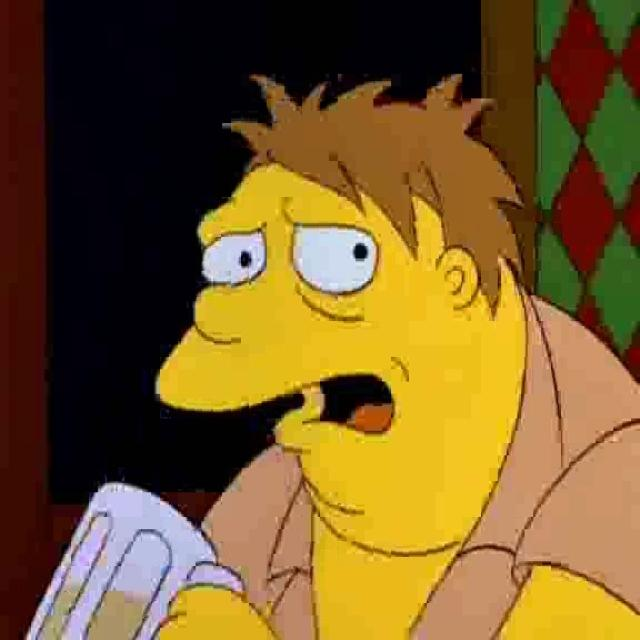Barney Gumble: (153, 66, 529, 559)
